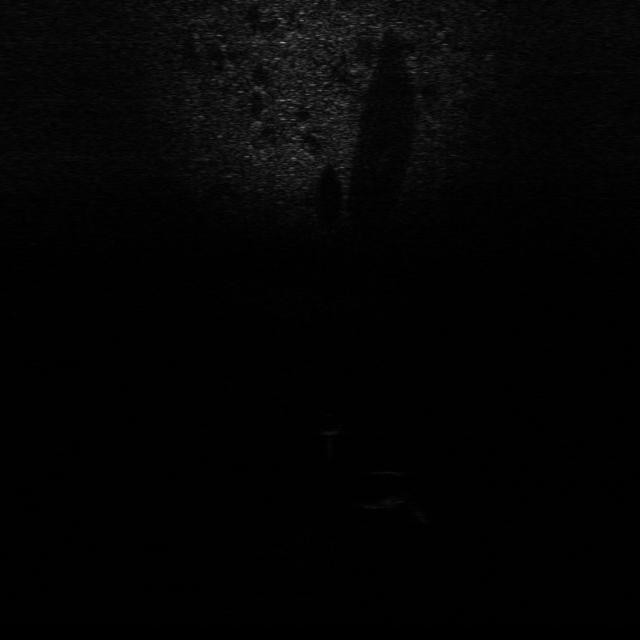ball: (312, 413, 349, 435)
tyre: (353, 468, 418, 512)
